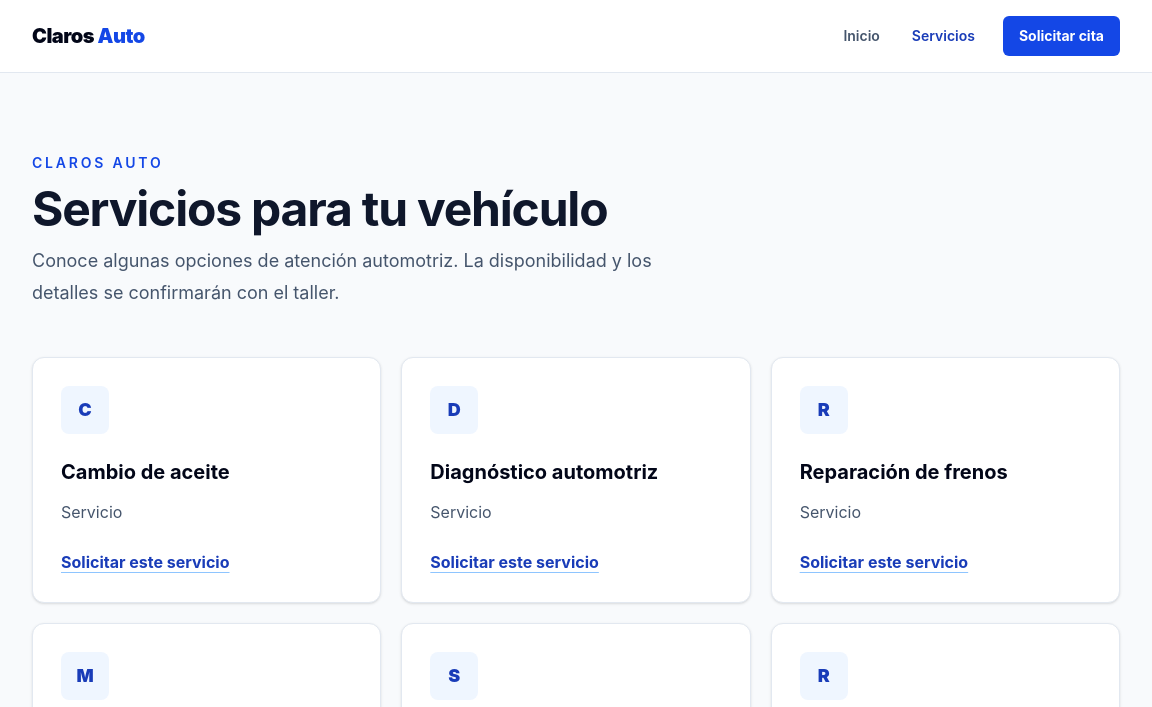
it: rutas públicas › preselecciona el servicio desde el catálogo en el formulario
Click the link "Solicitar este servicio" below "Cambio de aceite" at (145, 562), box [61,550,230,574]
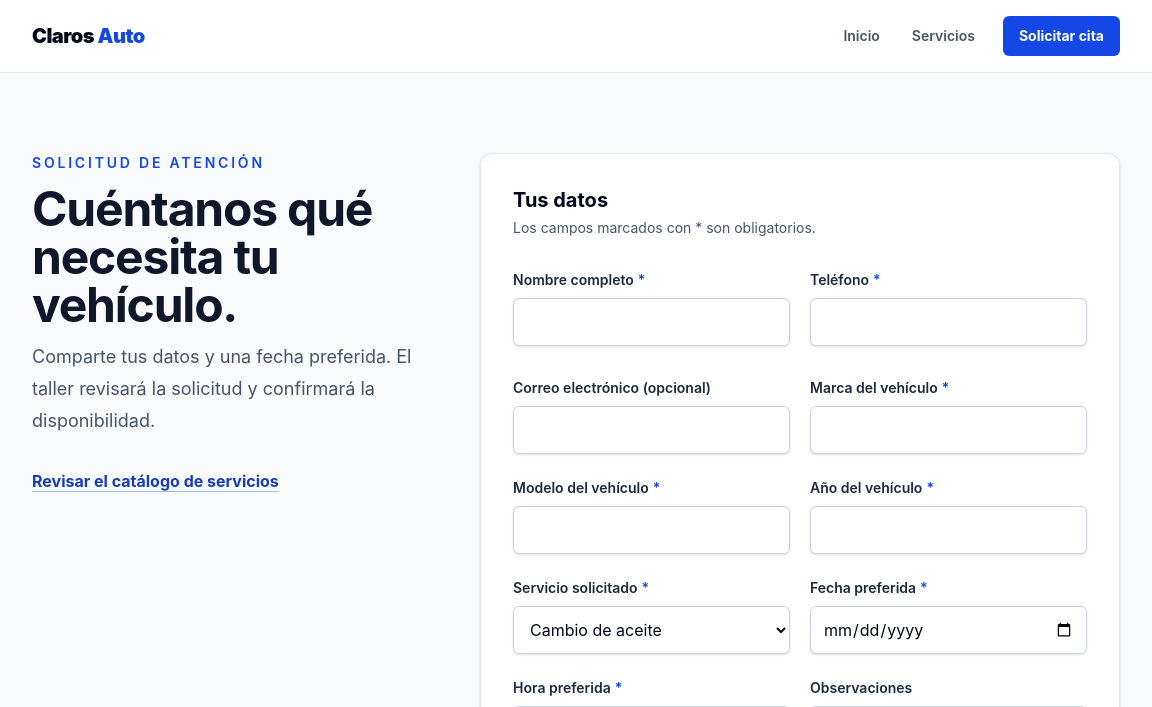
Expected: the dropdown labelled "Servicio solicitado*" shows "Cambio de aceite", [513,606,790,654]
Expected: the heading "Cuéntanos qué necesita tu vehículo." is shown, [32,185,416,329]
